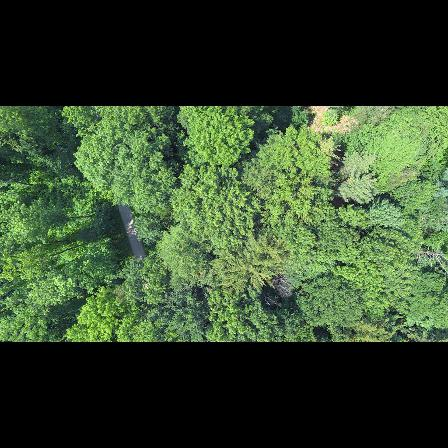Dead: (410, 246, 448, 274), (269, 272, 301, 298)
